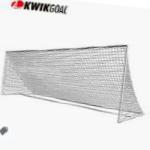goals: (1, 43, 145, 125)
